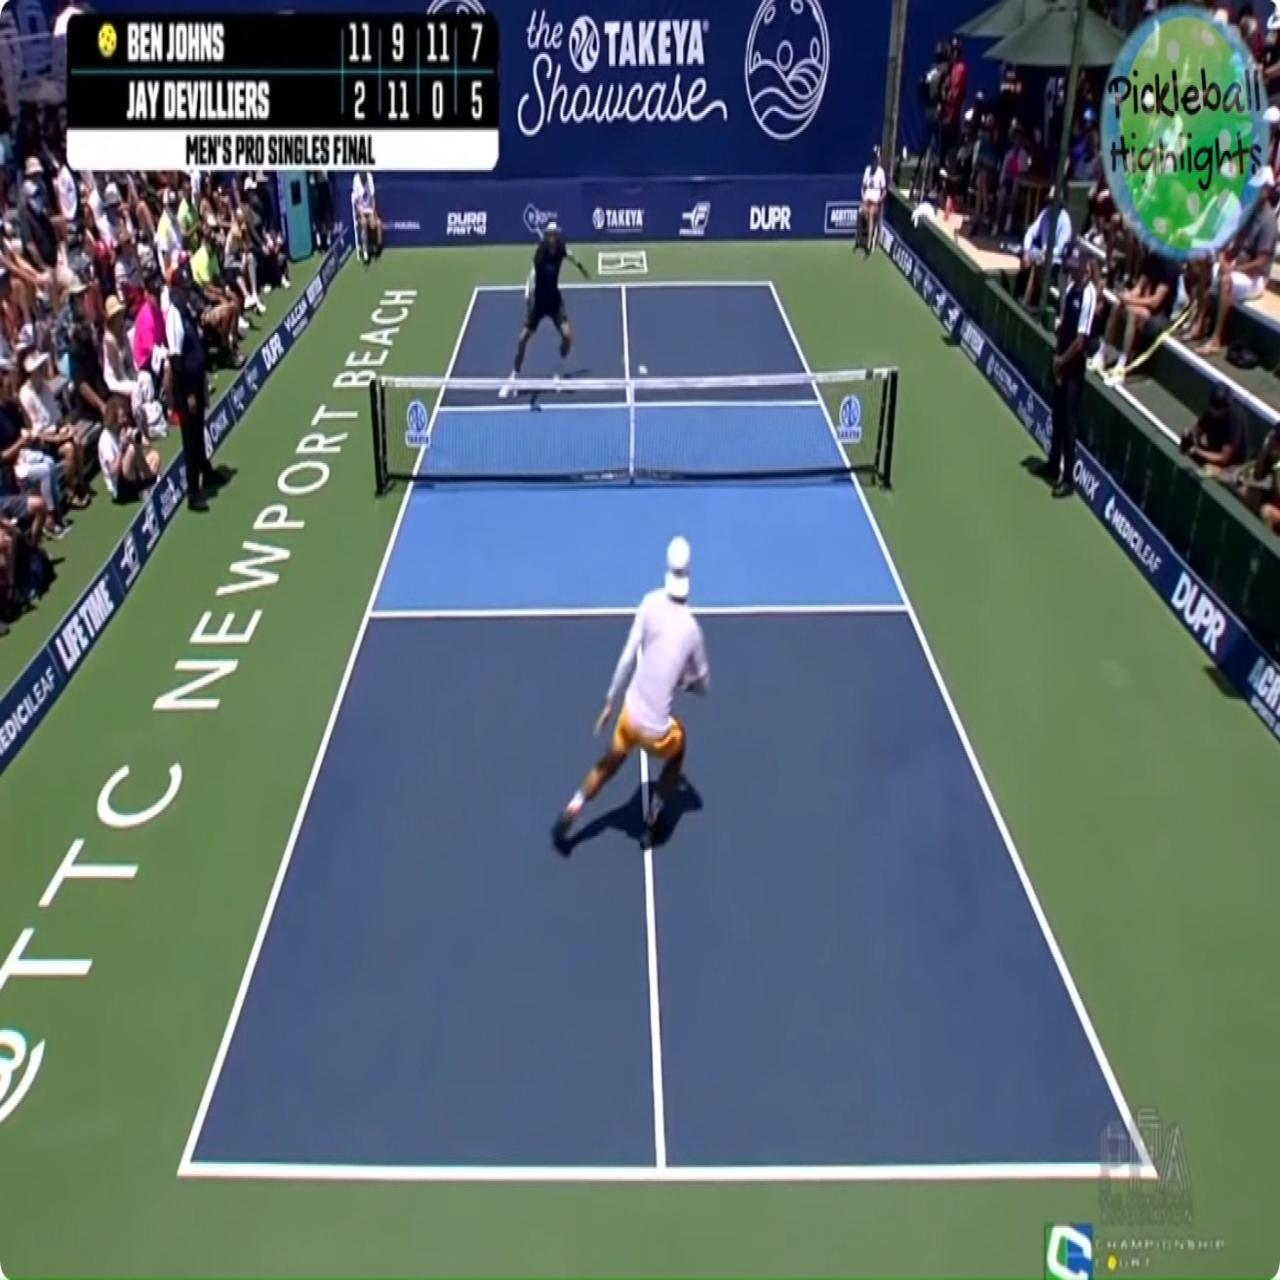pickleball: (638, 365, 648, 375)
